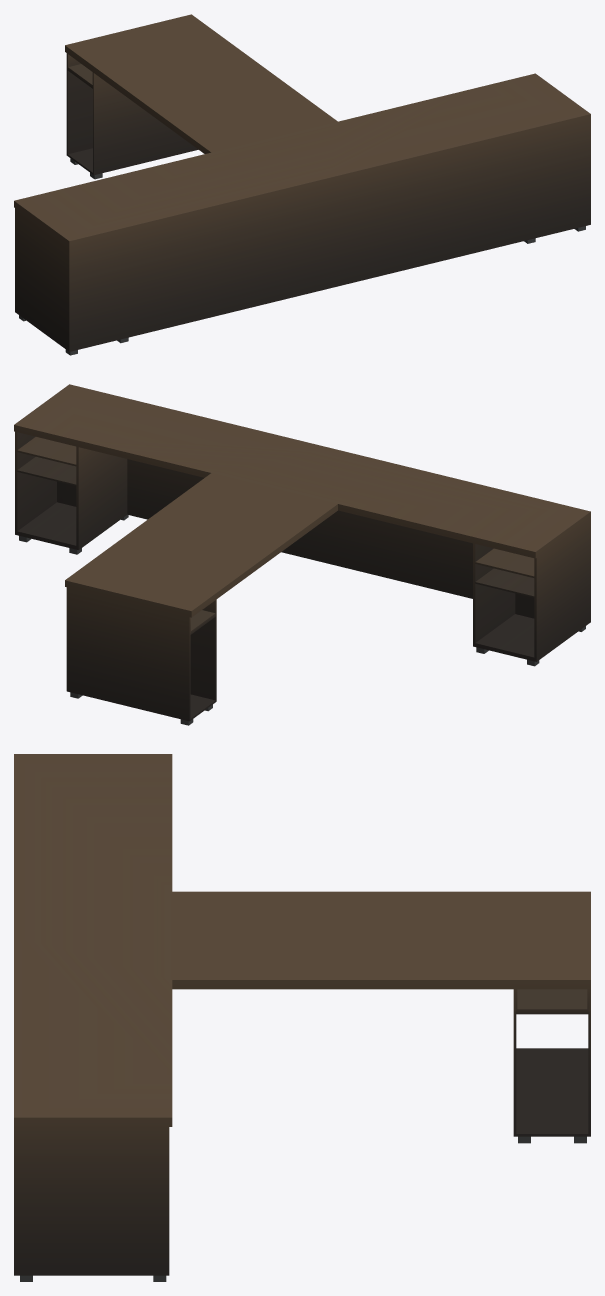
Rendered from Desk_Joined_C_Open_Brown.fbx.
The picture shows the model from 3 angles, top to bottom: view 1: azimuth 30°, elevation 25°; view 2: azimuth 150°, elevation 25°; view 3: azimuth 270°, elevation 25°; orthographic projection. The views are drawn at different scales.
Visible parts, largest first — view 1: Desk_Joined_C_Open_Brown; view 2: Desk_Joined_C_Open_Brown; view 3: Desk_Joined_C_Open_Brown.
Boxes of the visible parts, x1,y1,x2,y2 form: Desk_Joined_C_Open_Brown: (14,14,590,355); Desk_Joined_C_Open_Brown: (14,384,590,725); Desk_Joined_C_Open_Brown: (14,754,590,1281).
Bounding box in the file's own units: 328 × 70 × 220.
